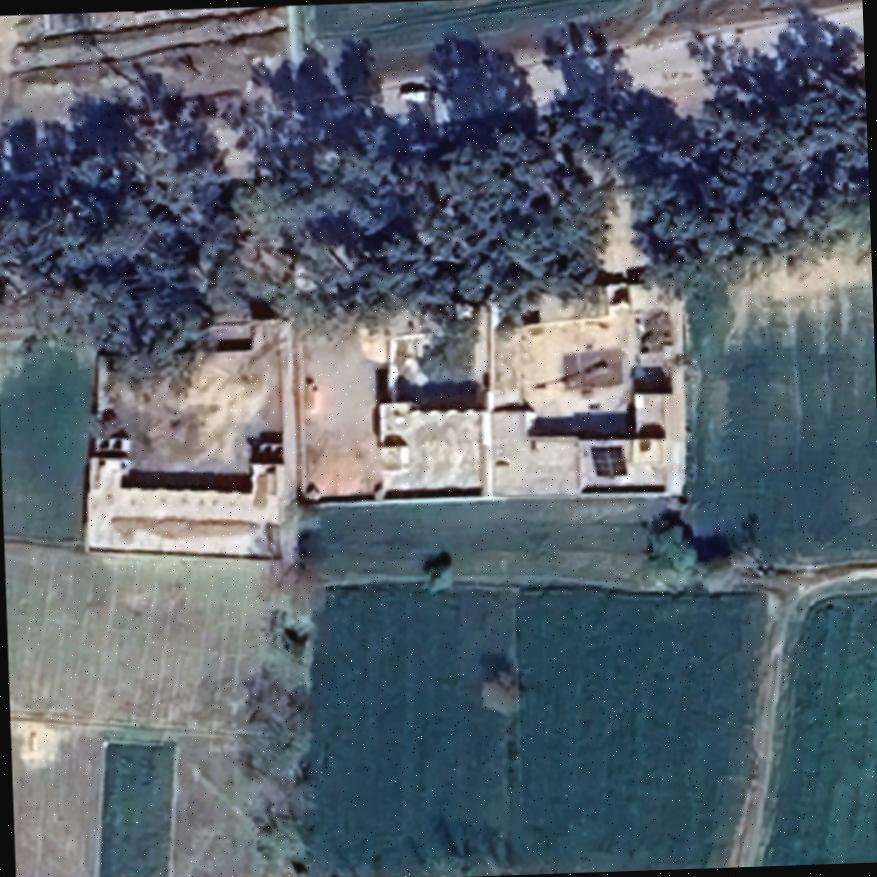Solarpanel: (588, 442, 628, 478)
